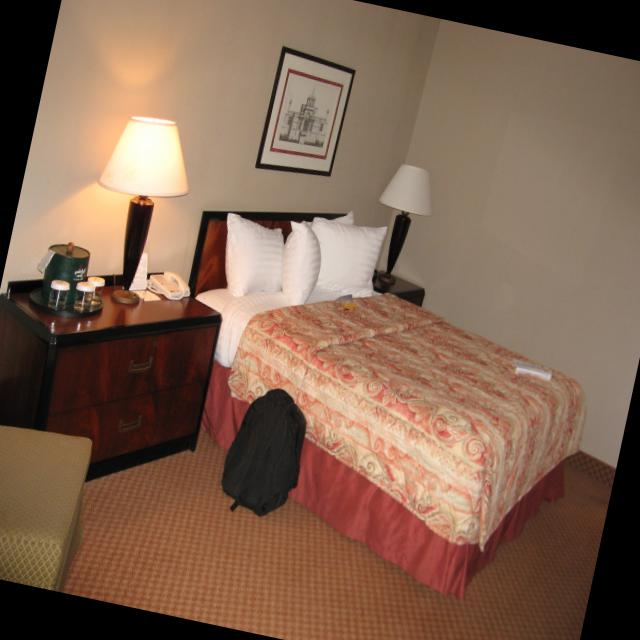backpack: (219, 389, 306, 519)
bed -occluded-: (172, 209, 587, 602)
commode: (0, 270, 222, 495)
floor -X: (0, 347, 611, 640)
glass ceiling: (74, 281, 94, 312)
lamp: (98, 116, 188, 199)
painting crop: (253, 44, 356, 176)
phone charger: (148, 269, 189, 299)
wall clock: (356, 19, 640, 487)
